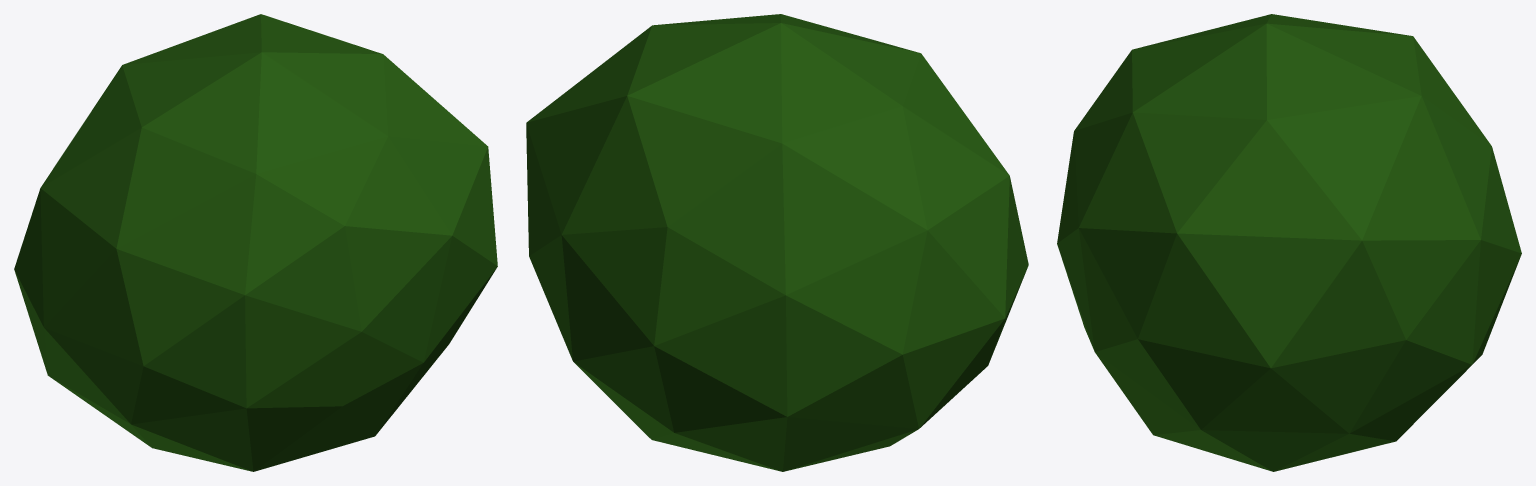
File: Bush1.fbx
The picture shows the model from 3 angles, left to right: view 1: azimuth 30°, elevation 25°; view 2: azimuth 150°, elevation 25°; view 3: azimuth 270°, elevation 25°; orthographic projection. The views are drawn at different scales.
Parts seen in each view (by area): view 1: Bush_1_LOD0; view 2: Bush_1_LOD0; view 3: Bush_1_LOD0.
Part boxes in pixels (bbox=[...]): Bush_1_LOD0: bbox=[14, 14, 497, 471]; Bush_1_LOD0: bbox=[526, 14, 1028, 471]; Bush_1_LOD0: bbox=[1057, 14, 1521, 471].
Size of what is drawn, in the model's own units: 174 by 151 by 151.
